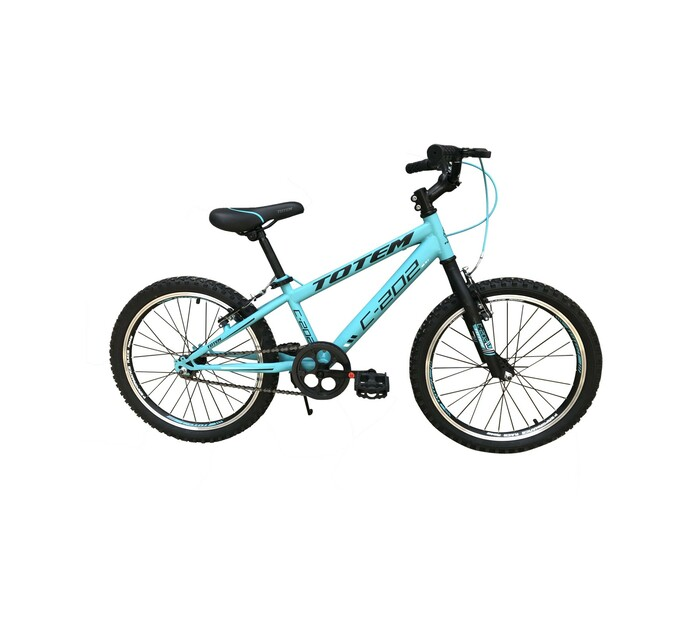bicycle: (109, 146, 607, 459)
